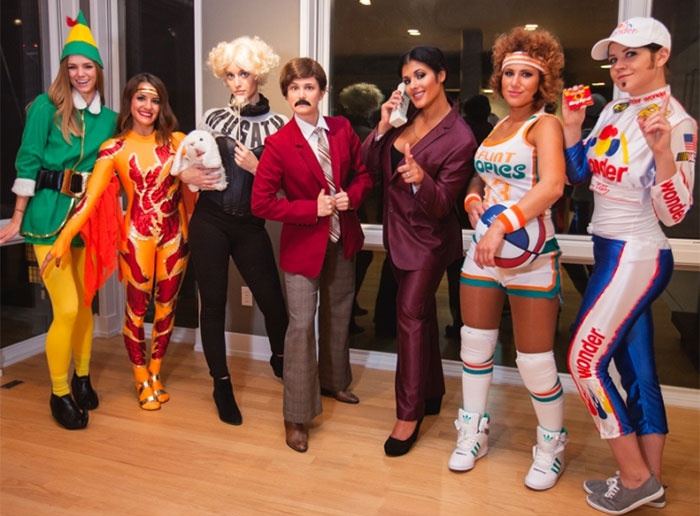bad: (596, 38, 648, 90), (496, 60, 540, 103), (129, 86, 165, 122), (397, 66, 433, 102), (61, 54, 97, 90), (285, 78, 321, 114), (217, 62, 253, 98)
